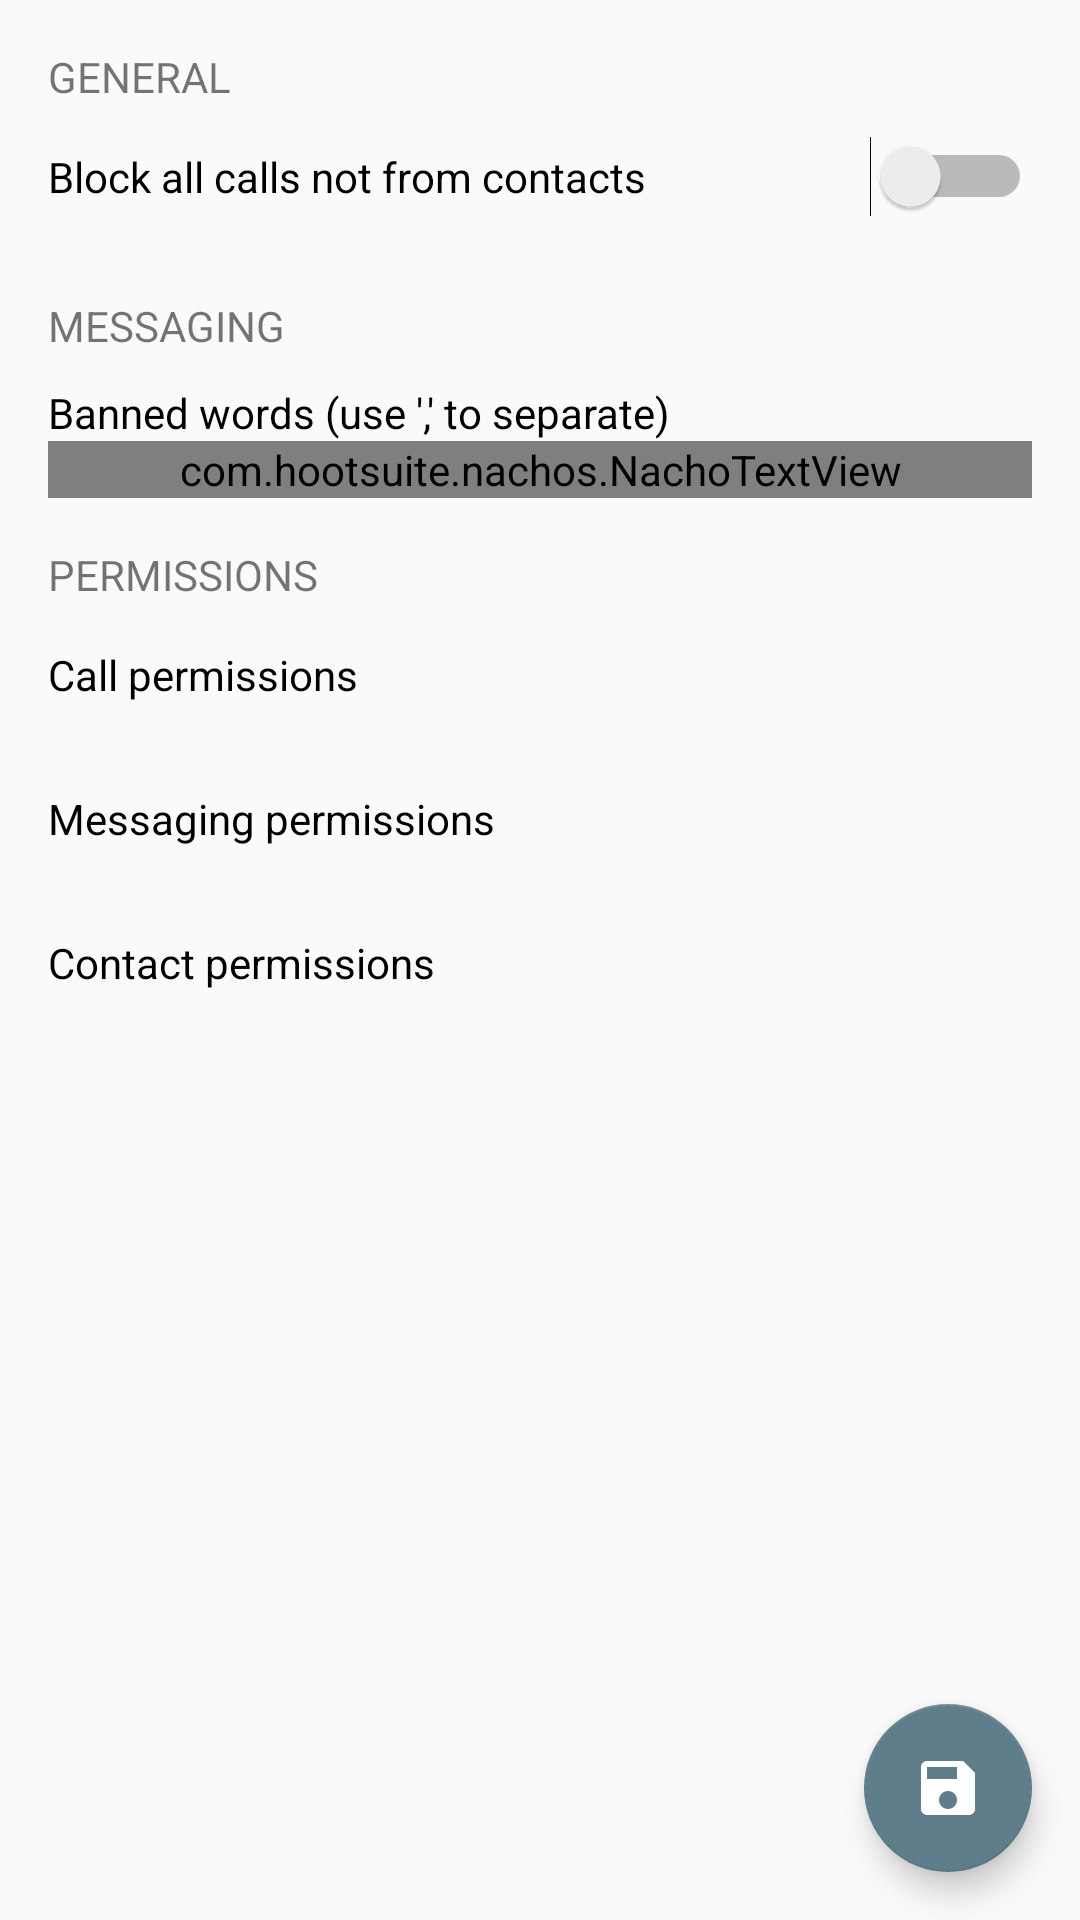

Where icons sit on this 1080 × 1920 app screen, as (x1, y1, x2, y2):
save settings: (864, 1704, 1032, 1872)
